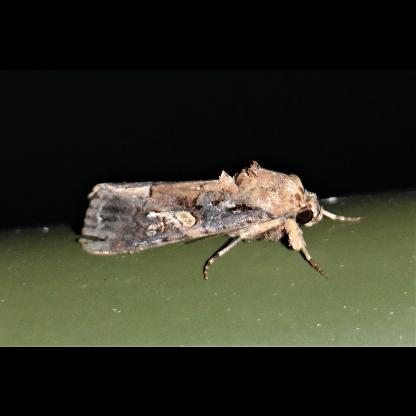Fall Armyworm Moth: (76, 158, 364, 282)
